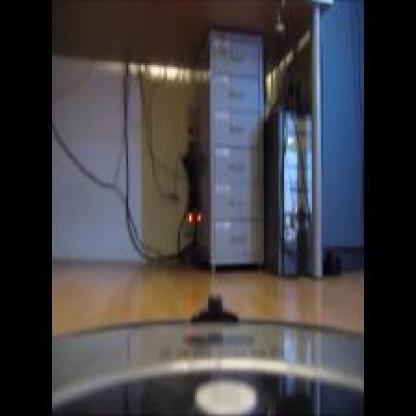other: (124, 45, 210, 92), (176, 199, 211, 231)
